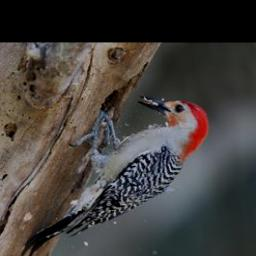Woodpecker: (23, 96, 208, 256)
